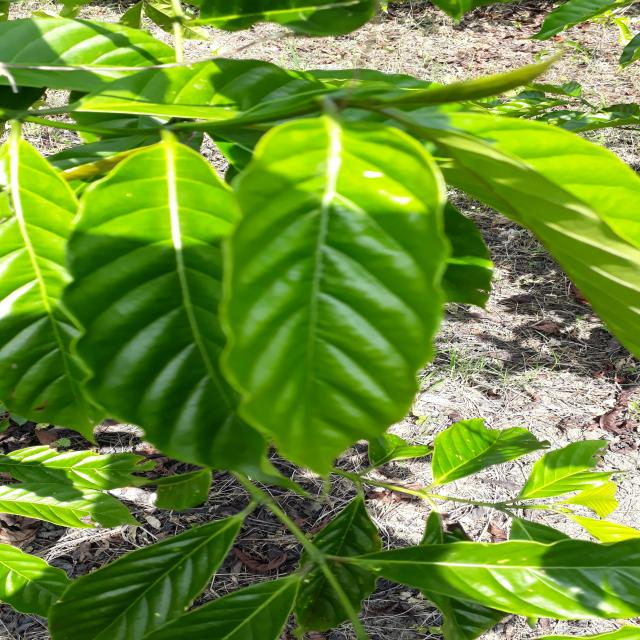Sanas: (223, 118, 450, 472)
